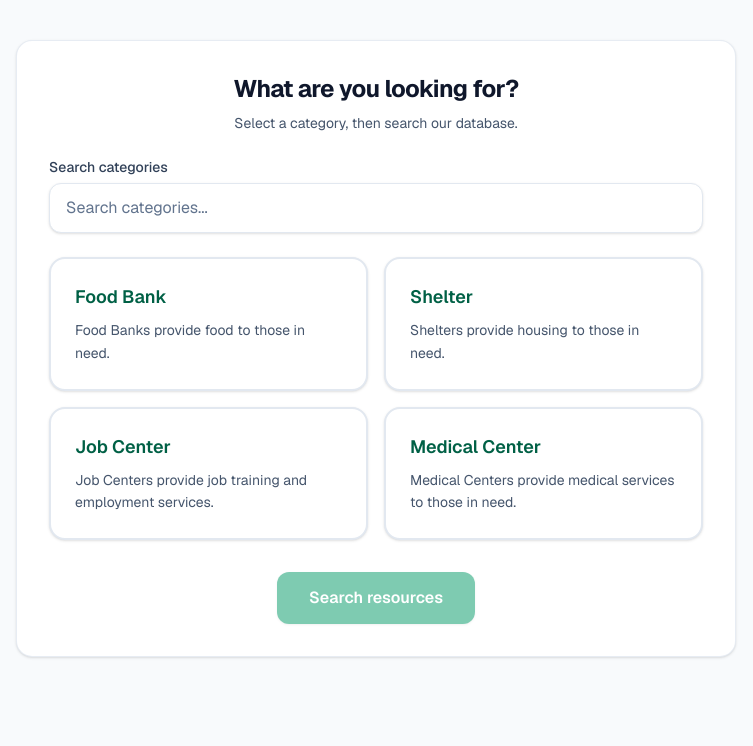
Test case: Home page › shows the error message when the API fails
What coordinates should you click on to do the following:
click the button "Job Center"
I would click on:
 (208, 473)
Its box is [49,406,368,540].
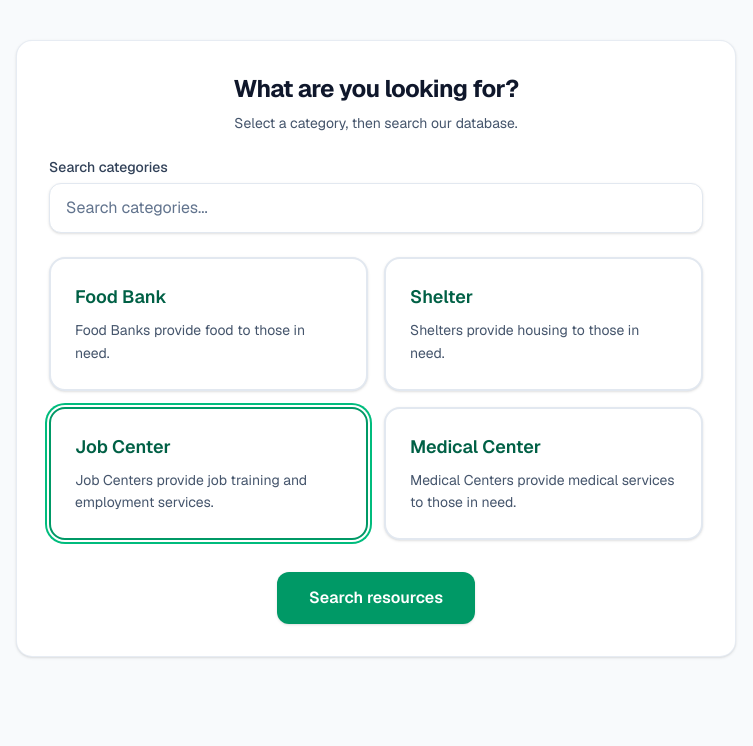
What coordinates should you click on to do the following:
click the button "Search resources"
I would click on:
 (376, 598)
Its box is [277,572,475,624].
(page scrolled)
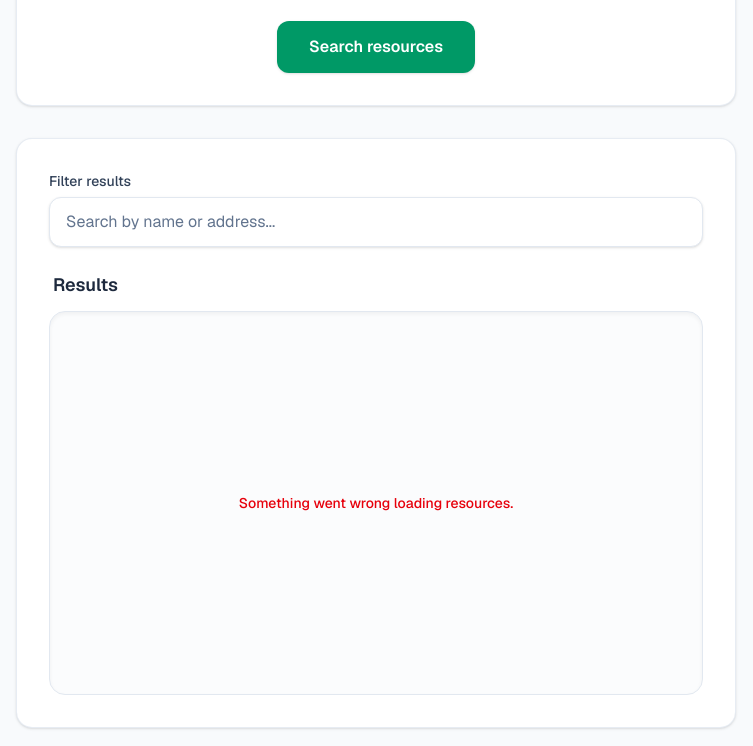
Expected: the message reads "Something went wrong loading resources.", [239,494,513,512]
